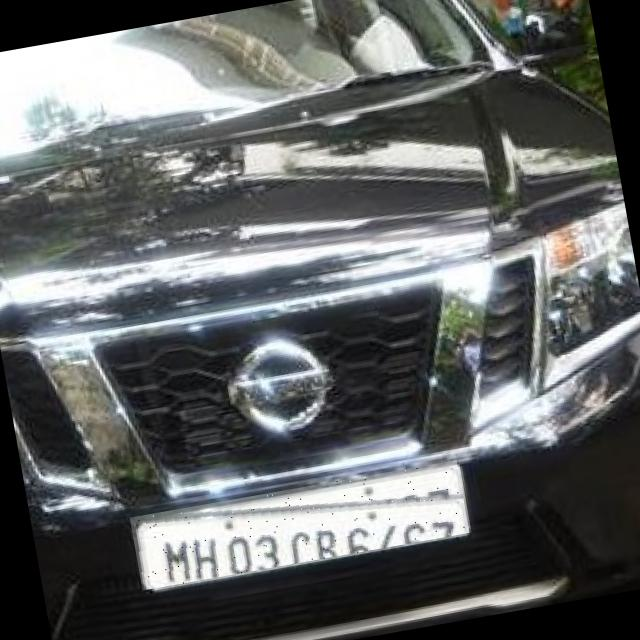Plate: (130, 460, 470, 591)
